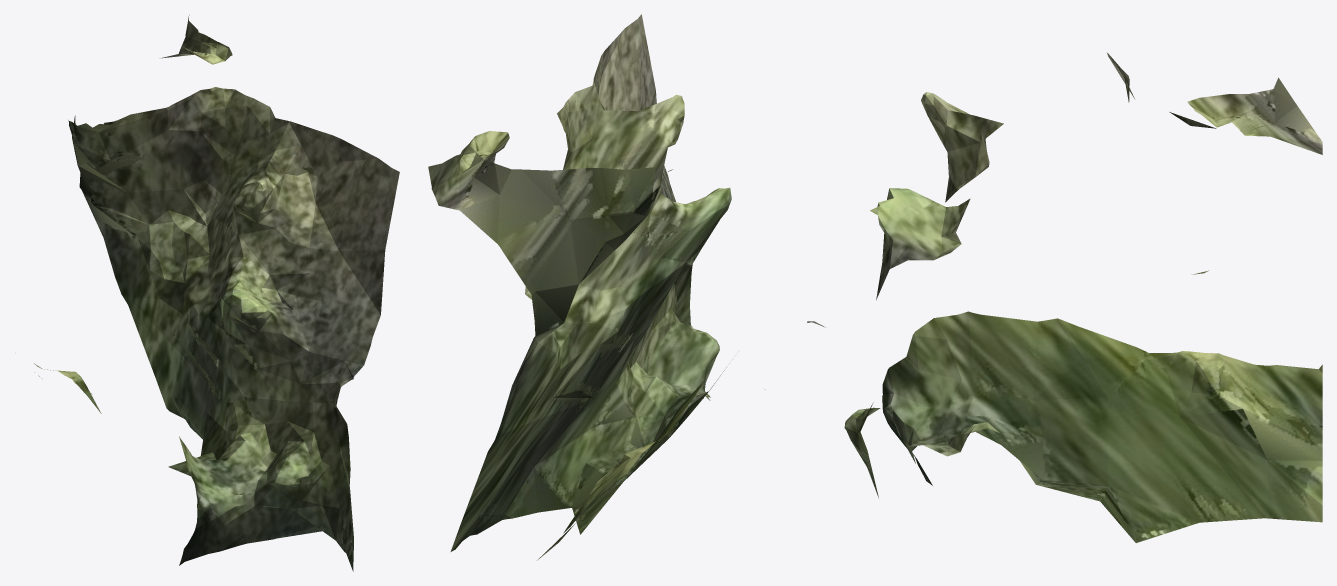
3 renders of one model, left to right at view 1: azimuth 30°, elevation 25°; view 2: azimuth 150°, elevation 25°; view 3: azimuth 270°, elevation 25°, orthographic. The views are drawn at different scales.
Size of the model in its own units: 2.79 by 5.9 by 5.9.
Materials: 4 (4 with a texture image).
